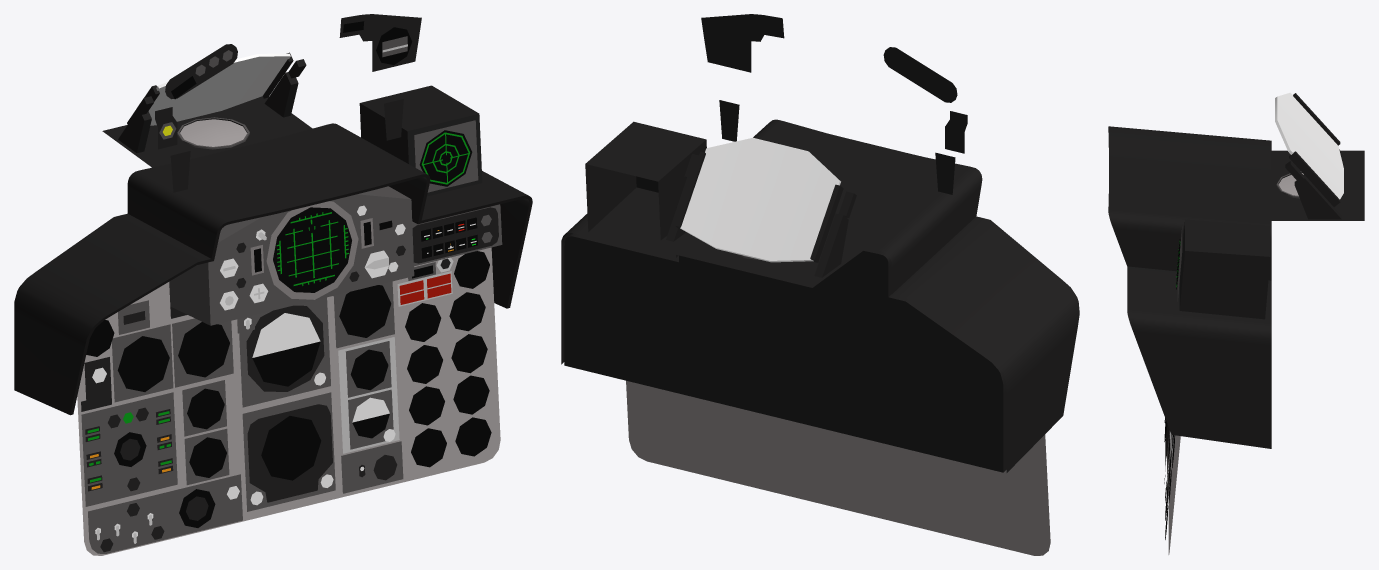
Rendered from F-4D_Panel(1).obj.
3 renders of one model, left to right at view 1: azimuth 30°, elevation 25°; view 2: azimuth 150°, elevation 25°; view 3: azimuth 270°, elevation 25°, orthographic. The views are drawn at different scales.
Parts seen in each view (by area): view 1: Plane; view 2: Plane; view 3: Plane.
Part boxes in pixels (x1=…): Plane: x1=14, y1=14, x2=532, y2=555; Plane: x1=561, y1=14, x2=1079, y2=555; Plane: x1=1108, y1=92, x2=1364, y2=554.
Bounding box in the file's own units: 4.43 × 4.57 × 2.5.
